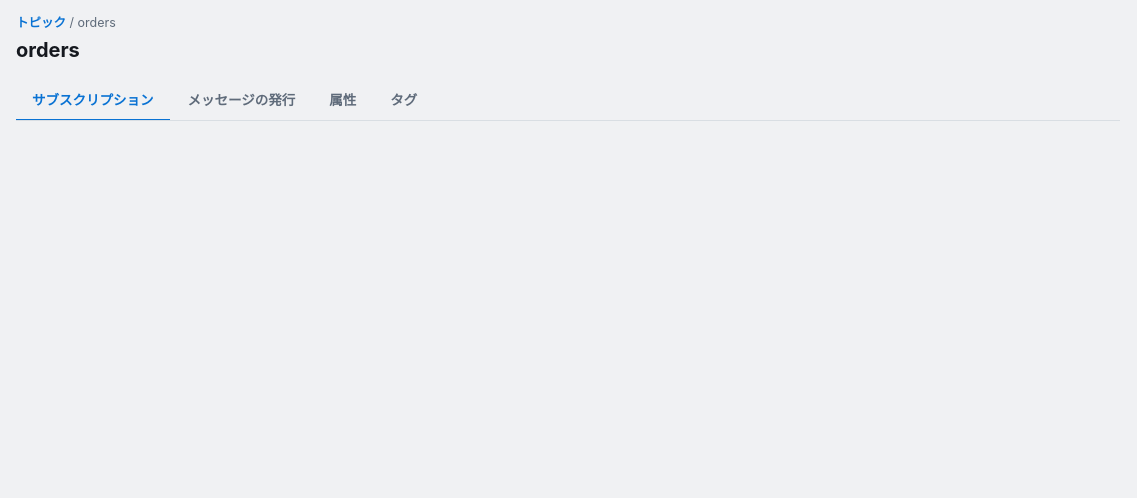
Scenario: TopicDetailPage › clears the previous publish result when an input changes
Click the button with test id "tab-publish" at (241, 101), box x1=172 y1=81 x2=311 y2=121
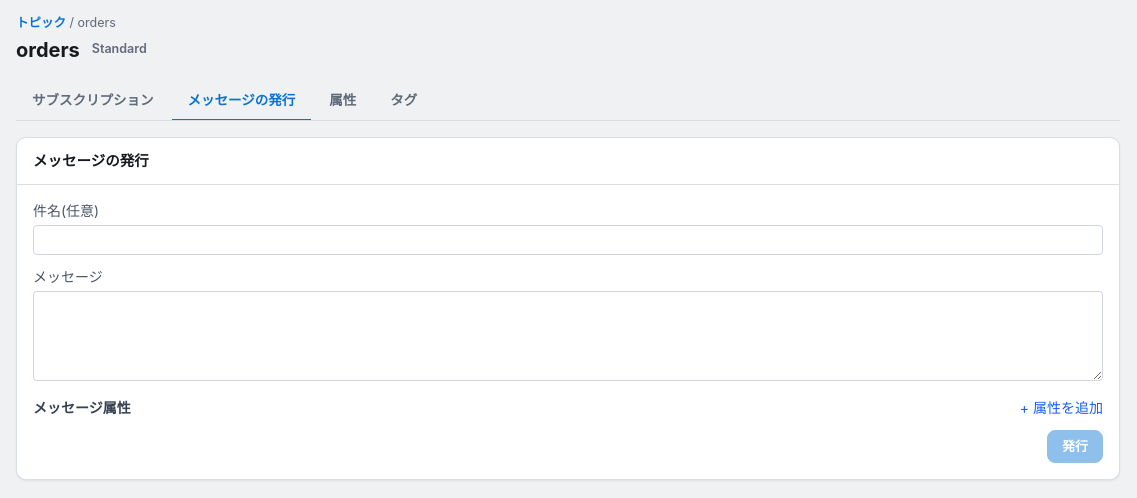
Type "hello" into the text box with test id "pub-message" at (568, 336), box x1=33 y1=291 x2=1103 y2=381
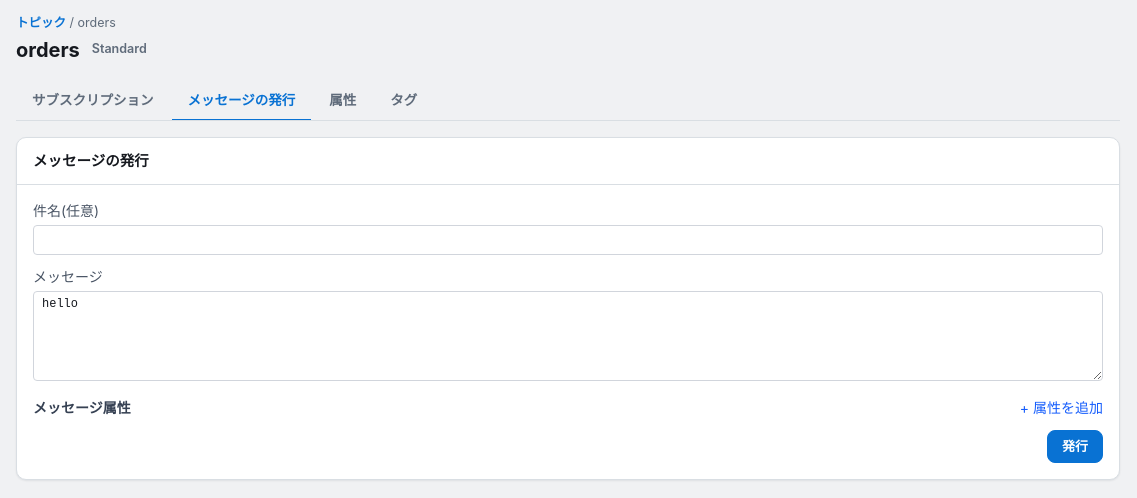
Click the button with test id "pub-save" at (1075, 447), box x1=1047 y1=430 x2=1103 y2=463
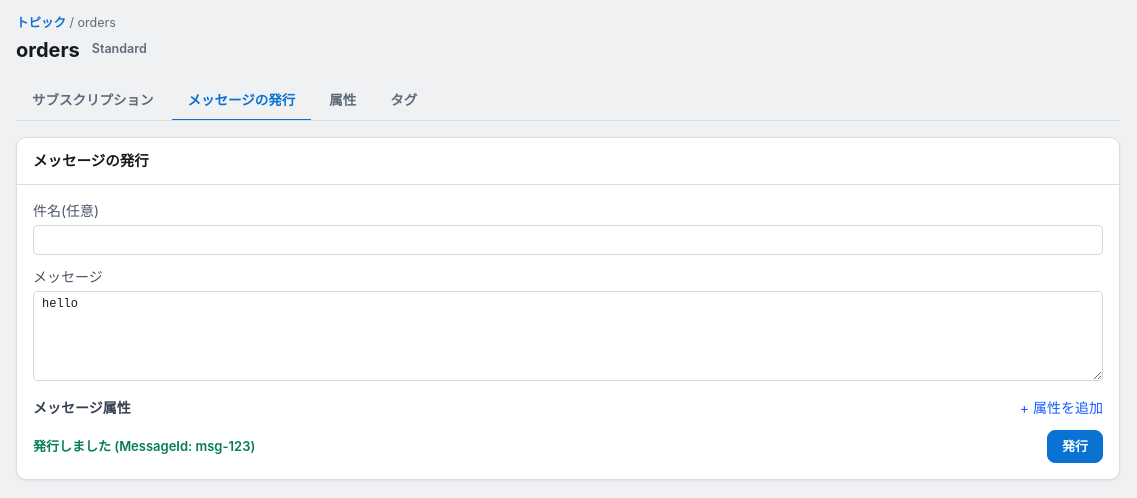
Expected: the text with test id "publish-result" shows "msg-123", x1=196 y1=438 x2=250 y2=454
// Editing any field discards the stale "発行しました" message.
Replace the text in the text box with test id "pub-message" with "hello world" at (568, 336), box x1=33 y1=291 x2=1103 y2=381
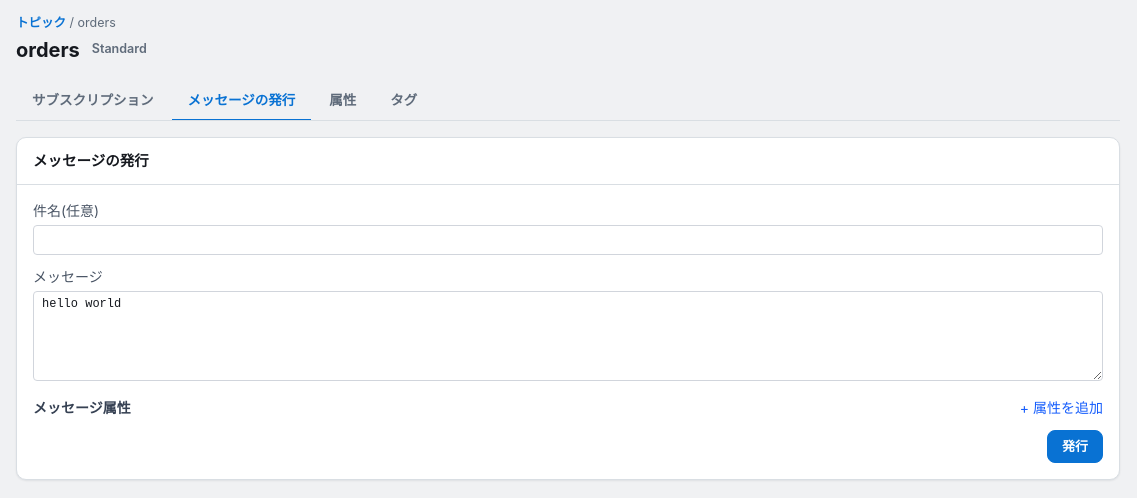
Expected: the text with test id "publish-result" is gone
